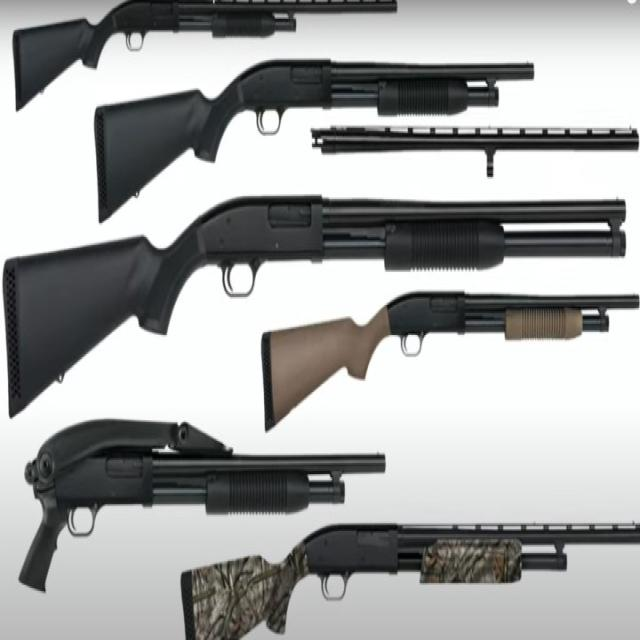ShotGun: (1, 196, 627, 412), (94, 60, 537, 221), (20, 420, 387, 593), (180, 523, 640, 640), (261, 292, 640, 431), (12, 0, 400, 109)
